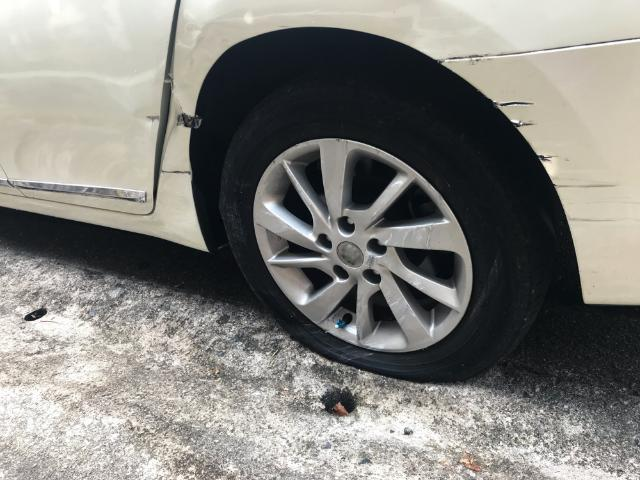scratch: (494, 98, 634, 226)
tire flat: (218, 73, 554, 384)
